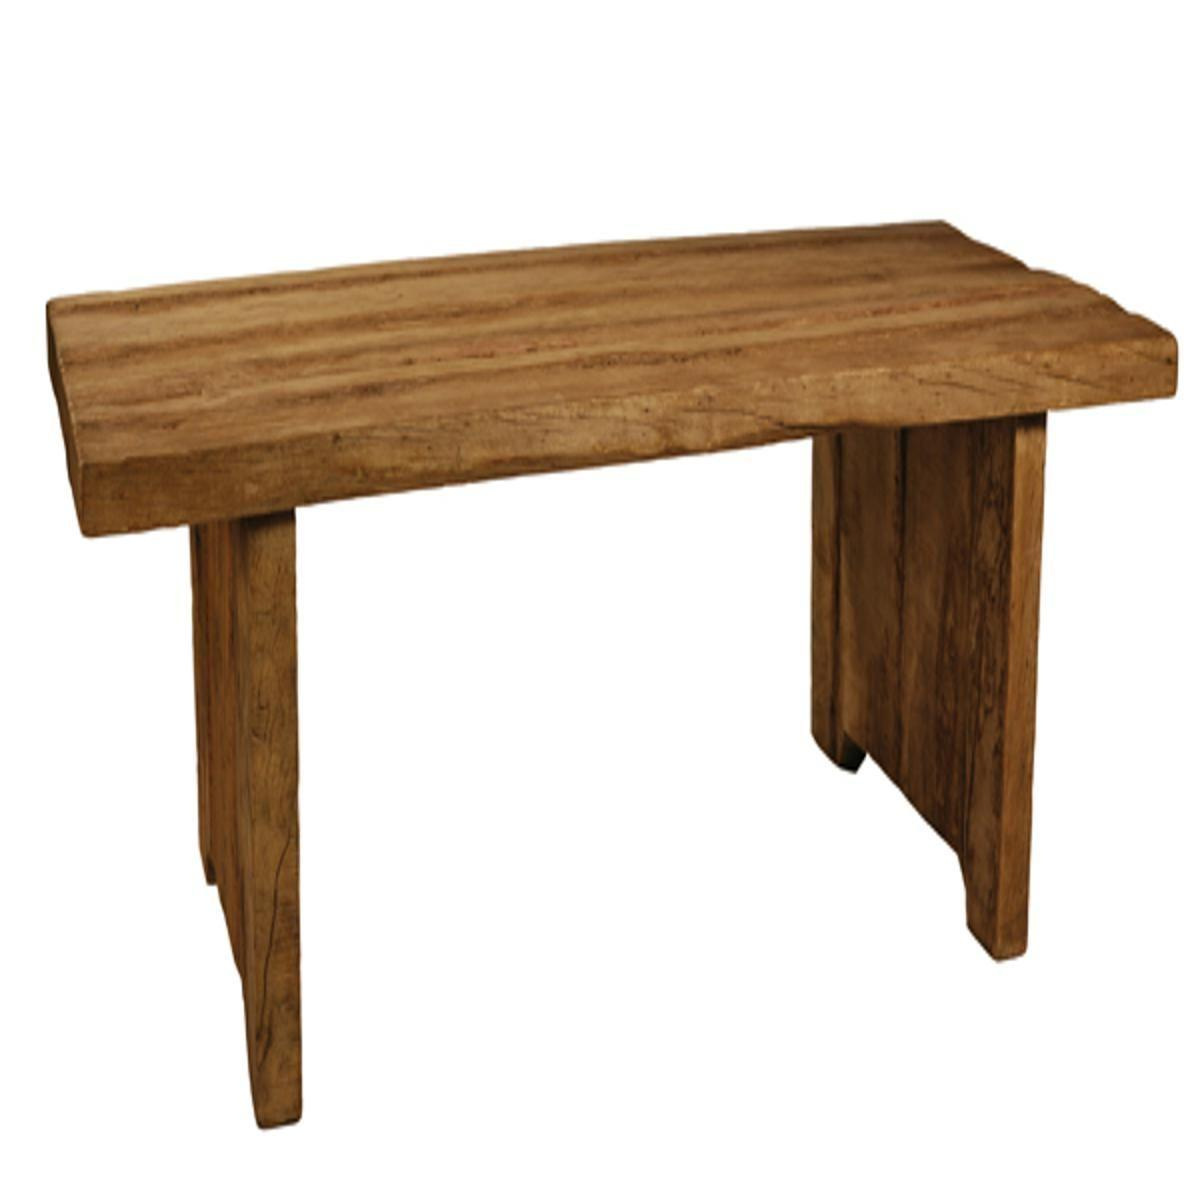Table: (38, 184, 1193, 1148)
